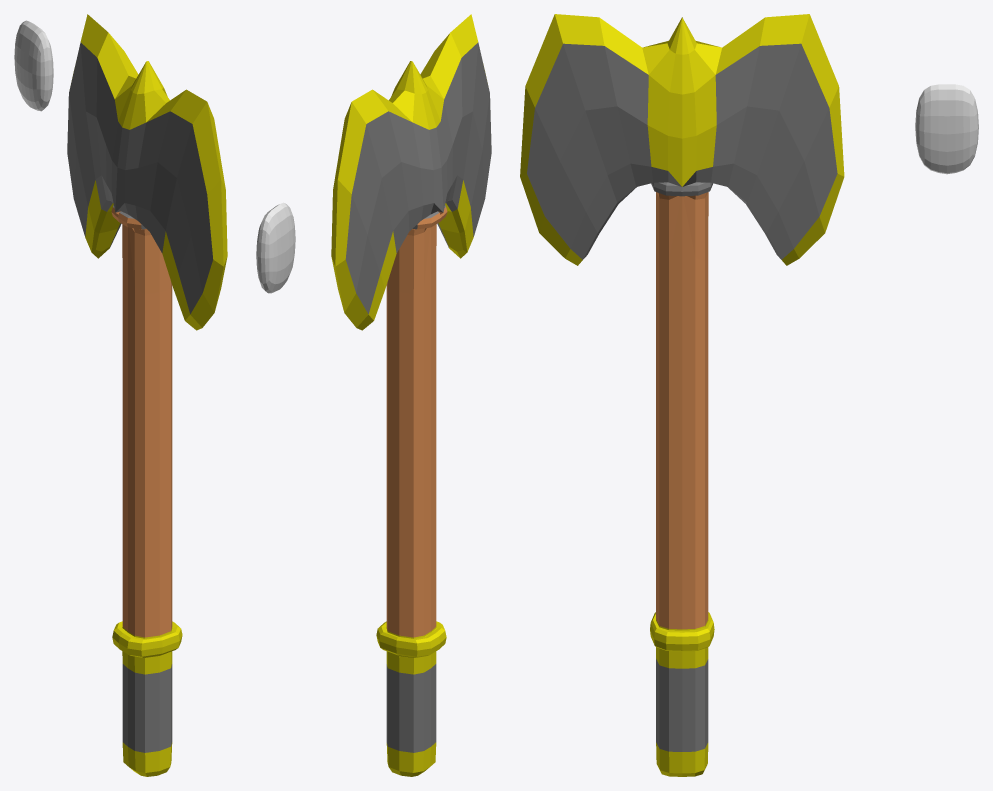
File: KingSekira.fbx
The picture shows the model from 3 angles, left to right: view 1: azimuth 30°, elevation 25°; view 2: azimuth 150°, elevation 25°; view 3: azimuth 270°, elevation 25°; orthographic projection. The views are drawn at different scales.
Visible parts, largest first — view 1: Cube, Cube.001; view 2: Cube, Cube.001; view 3: Cube, Cube.001.
Part boxes in pixels (x1,y1,x2,y2): Cube: [67, 14, 227, 776]; Cube.001: [14, 20, 53, 111]; Cube: [331, 14, 491, 776]; Cube.001: [256, 202, 295, 293]; Cube: [520, 14, 844, 776]; Cube.001: [915, 84, 978, 174].
Bounding box in the file's own units: 0.5832 × 6.19 × 3.4.
